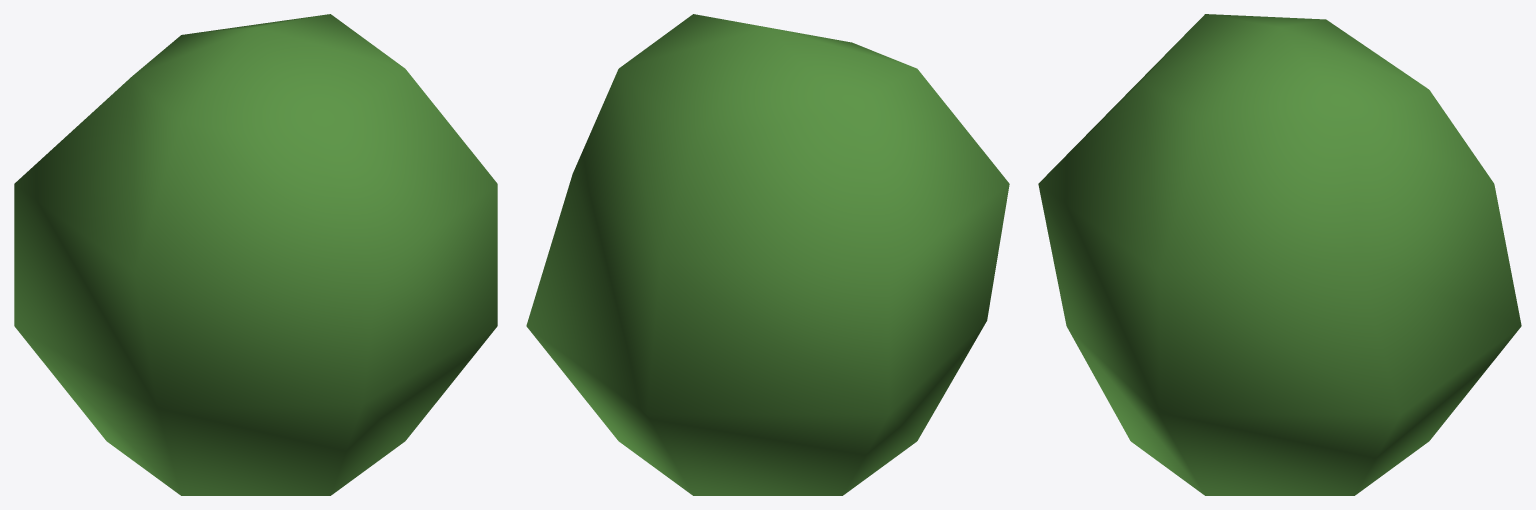
File: pensas2.glb
The picture shows the model from 3 angles, left to right: view 1: azimuth 30°, elevation 25°; view 2: azimuth 150°, elevation 25°; view 3: azimuth 270°, elevation 25°; orthographic projection.
Parts seen in each view (by area): view 1: Cube.001; view 2: Cube.001; view 3: Cube.001.
Boxes of the visible parts, <box> form: Cube.001: <box>14,14,497,495</box>; Cube.001: <box>526,14,1009,495</box>; Cube.001: <box>1038,14,1521,495</box>.
Size of the model in its own units: 1.05 by 1.17 by 1.22.
